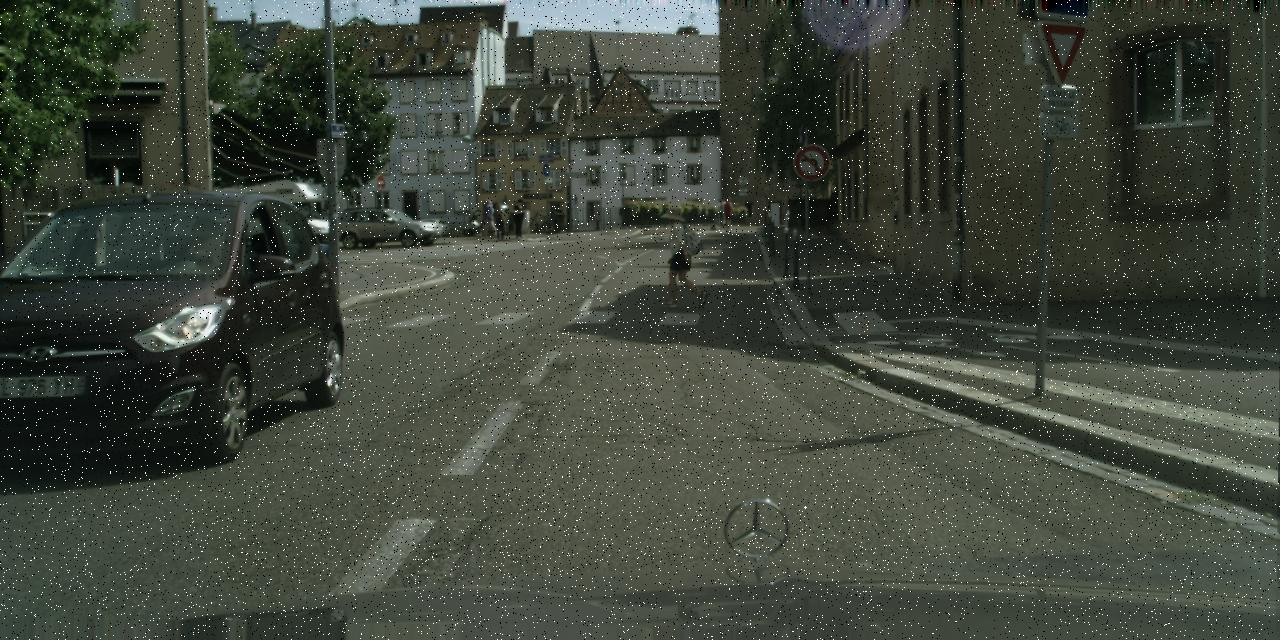ped: (660, 206, 700, 306), (474, 199, 496, 238), (512, 198, 528, 238), (721, 196, 736, 232), (492, 203, 506, 241), (714, 198, 728, 230)
